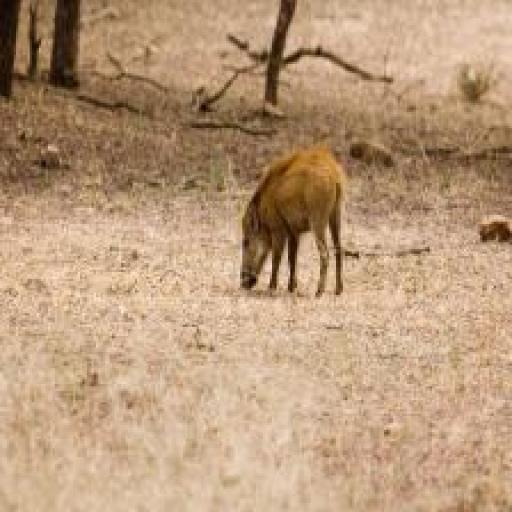Pig: (240, 142, 352, 298)
